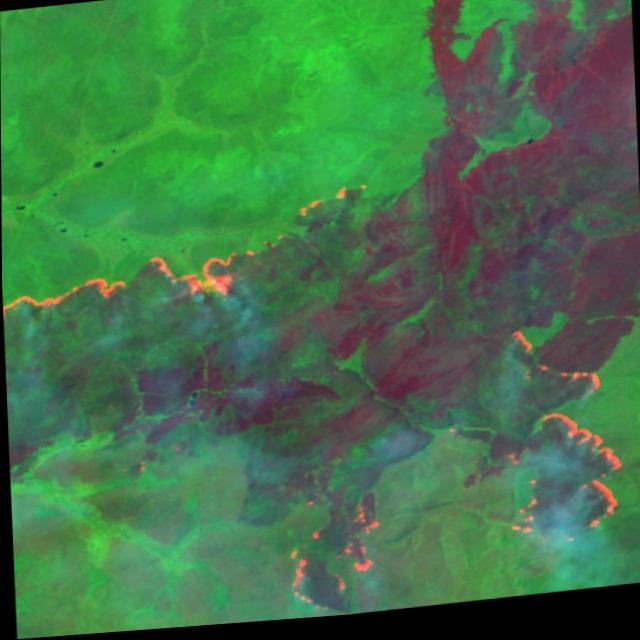fire: (1, 183, 380, 328), (486, 320, 630, 561), (270, 483, 388, 624)
